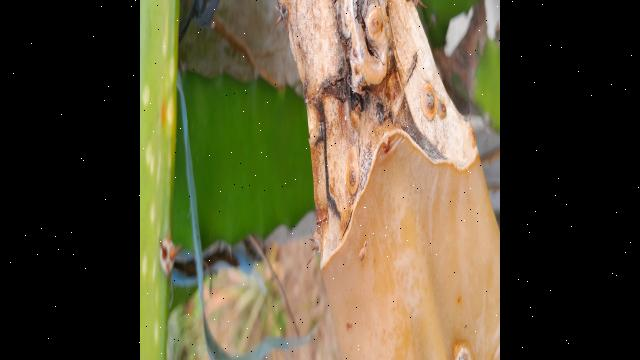stemcanker: (139, 26, 180, 285)
